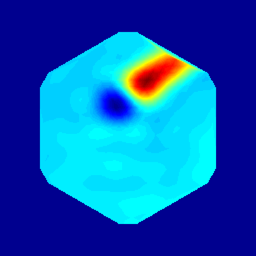ship: (103, 89, 136, 115)
wave: (123, 65, 171, 102)
